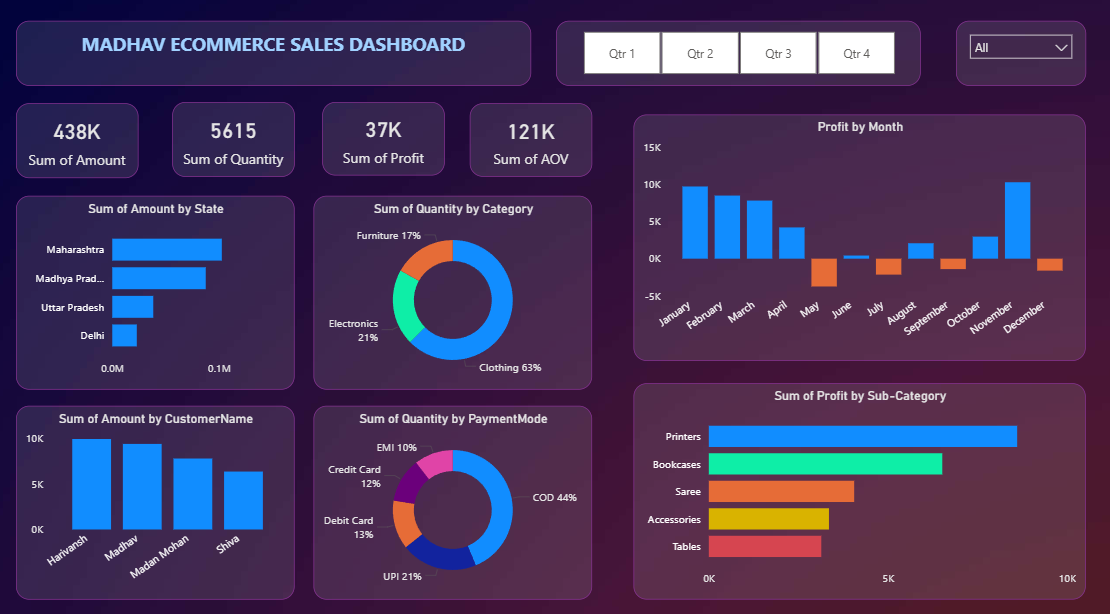

The page's visual inventory and layout, read from the dashboard file:
{"tool":"powerbi","page":{"name":"Page 1","canvas":[1280,720],"ordinal":0},"visuals":[{"type":"textbox","box":[22.9,27.1,588.6,74.3],"z":0},{"type":"columnChart","title":"Profit by Month","fields":{"Category":["Orders.Order Date.Variation.Date Hierarchy.Month"],"Y":["Details.Profit"]},"box":[728.6,134.3,517.1,281.4],"z":1000},{"type":"barChart","fields":{"Category":["Details.Sub-Category"],"Y":["Details.Profit"]},"box":[728.6,441.4,517.1,247.1],"z":2000},{"type":"donutChart","fields":{"Category":["Details.Category"],"Y":["Details.Quantity"]},"box":[362.9,227.1,318.6,221.4],"z":3000},{"type":"donutChart","fields":{"Y":["Details.Quantity"],"Category":["Details.PaymentMode"]},"box":[362.9,467.1,318.6,221.4],"z":4000},{"type":"card","fields":{"Values":["Details.Amount"]},"box":[22.9,121.4,140,85.7],"z":5000},{"type":"card","fields":{"Values":["Details.Quantity"]},"box":[201.4,120,140,85.7],"z":6000},{"type":"card","fields":{"Values":["Details.Profit"]},"box":[372.9,120,140,84.3],"z":7000},{"type":"card","fields":{"Values":["Details.AOV"]},"box":[541.4,121.4,140,84.3],"z":8000},{"type":"barChart","fields":{"Category":["Orders.State"],"Y":["Details.Amount"]},"box":[22.9,227.1,318.6,221.4],"z":9000},{"type":"columnChart","fields":{"Category":["Orders.CustomerName"],"Y":["Details.Amount"]},"box":[22.9,467.1,318.6,221.4],"z":10000},{"type":"slicer","fields":{"Values":["Orders.Order Date.Variation.Date Hierarchy.Quarter"]},"box":[640,27.1,417.1,74.3],"z":11000},{"type":"slicer","fields":{"Values":["Orders.State"]},"box":[1097.1,27.1,148.6,74.3],"z":11001}]}

Visuals, with their boxes in screenshot pixels (x1, y1, x2, y2), scaled from the page's 1280x720 canvas onto the 1110x614 screenshot:
textbox: select_region(20, 23, 530, 86)
"Profit by Month" columnChart: select_region(632, 115, 1080, 354)
barChart - Details.Sub-Category x Details.Profit: select_region(632, 376, 1080, 587)
donutChart - Details.Category x Details.Quantity: select_region(315, 194, 591, 382)
donutChart - Details.Quantity x Details.PaymentMode: select_region(315, 398, 591, 587)
card - Details.Amount: select_region(20, 104, 141, 177)
card - Details.Quantity: select_region(175, 102, 296, 175)
card - Details.Profit: select_region(323, 102, 445, 174)
card - Details.AOV: select_region(469, 104, 591, 175)
barChart - Orders.State x Details.Amount: select_region(20, 194, 296, 382)
columnChart - Orders.CustomerName x Details.Amount: select_region(20, 398, 296, 587)
slicer - Orders.Order Date.Variation.Date Hierarchy.Quarter: select_region(555, 23, 917, 86)
slicer - Orders.State: select_region(951, 23, 1080, 86)
